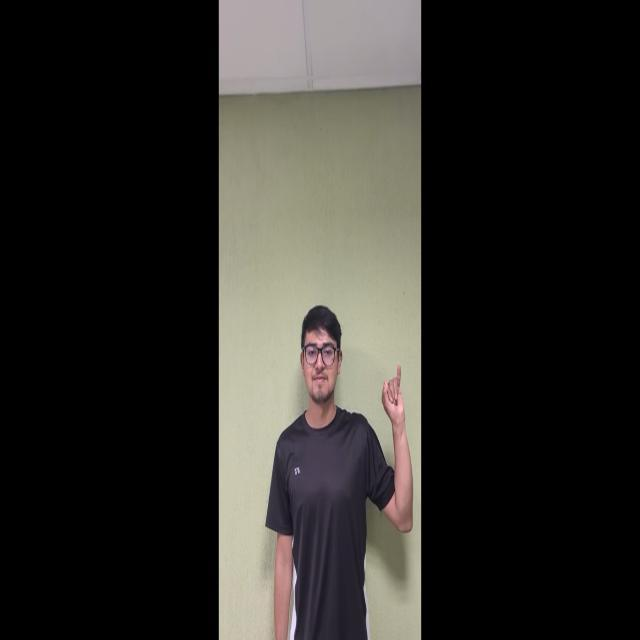I: (372, 356, 413, 436)
